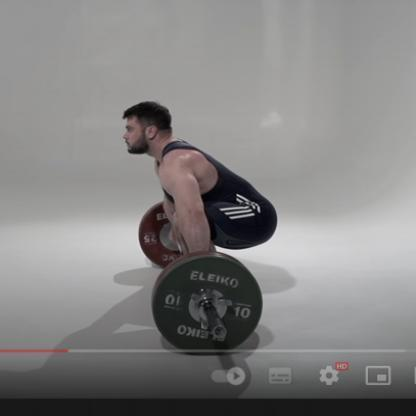barbell: (140, 200, 264, 355)
